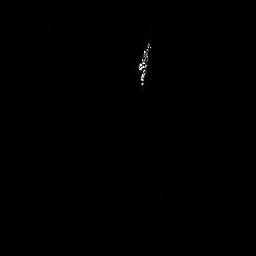ship: (135, 40, 152, 87)
